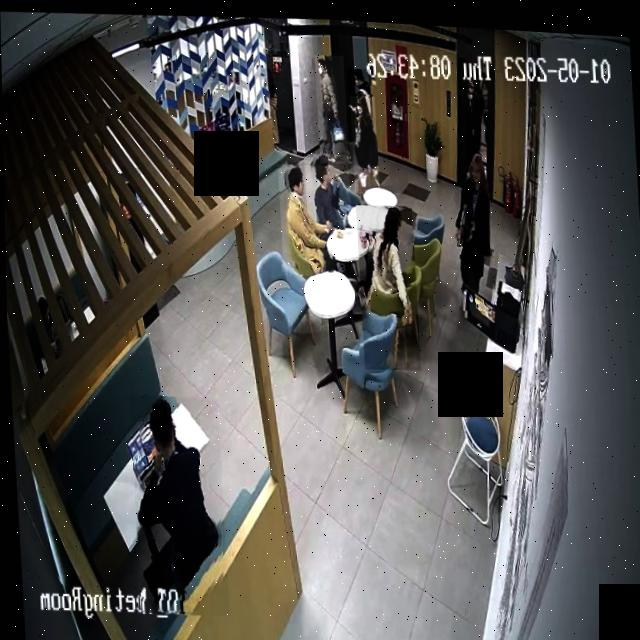person: (127, 391, 226, 616), (354, 199, 419, 368), (450, 145, 495, 306), (277, 158, 335, 274), (314, 50, 349, 160), (303, 148, 351, 228), (348, 90, 379, 191), (346, 64, 374, 140)
